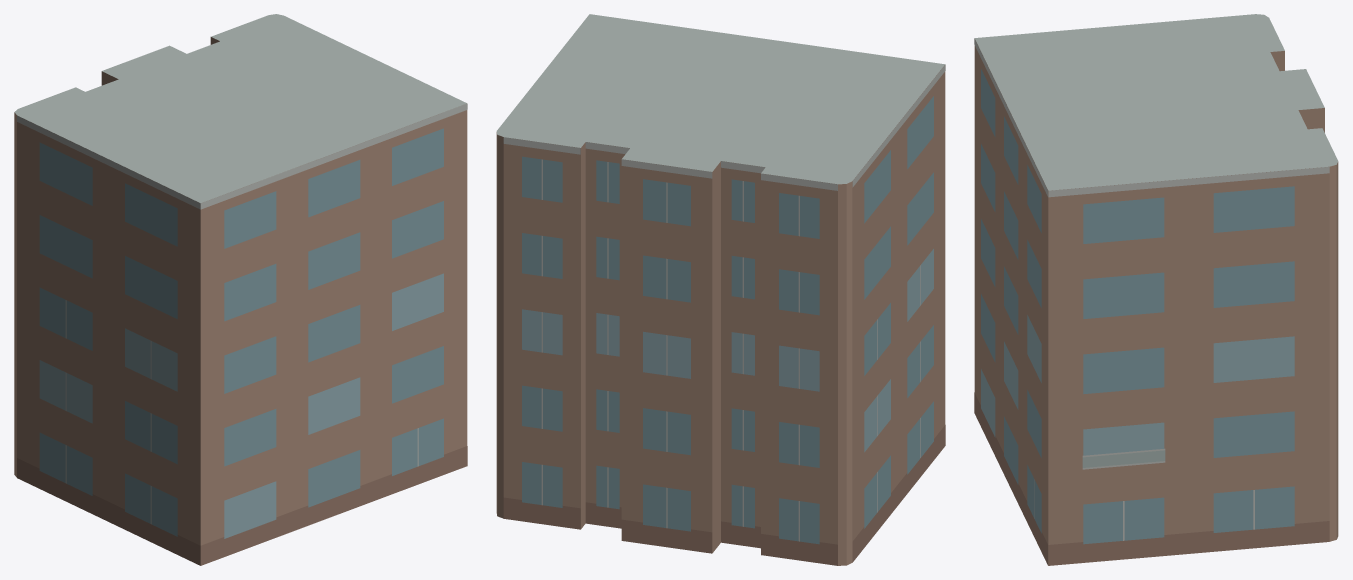
File: survey-upis-32794323.glb
3 renders of one model, left to right at view 1: azimuth 30°, elevation 25°; view 2: azimuth 150°, elevation 25°; view 3: azimuth 270°, elevation 25°, orthographic. The views are drawn at different scales.
Visible parts, largest first — view 1: survey-upis-32794323.tmp; view 2: survey-upis-32794323.tmp; view 3: survey-upis-32794323.tmp.
Boxes of the visible parts, left/top/right/bottom form: survey-upis-32794323.tmp: left=14, top=14, right=467, bottom=565; survey-upis-32794323.tmp: left=496, top=14, right=945, bottom=565; survey-upis-32794323.tmp: left=974, top=14, right=1338, bottom=565.
Size of the model in its own units: 14 by 13.85 by 12.18.
